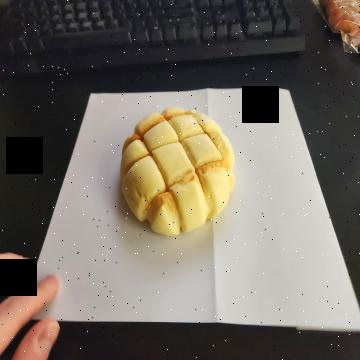melon_bread: (118, 104, 237, 238)
